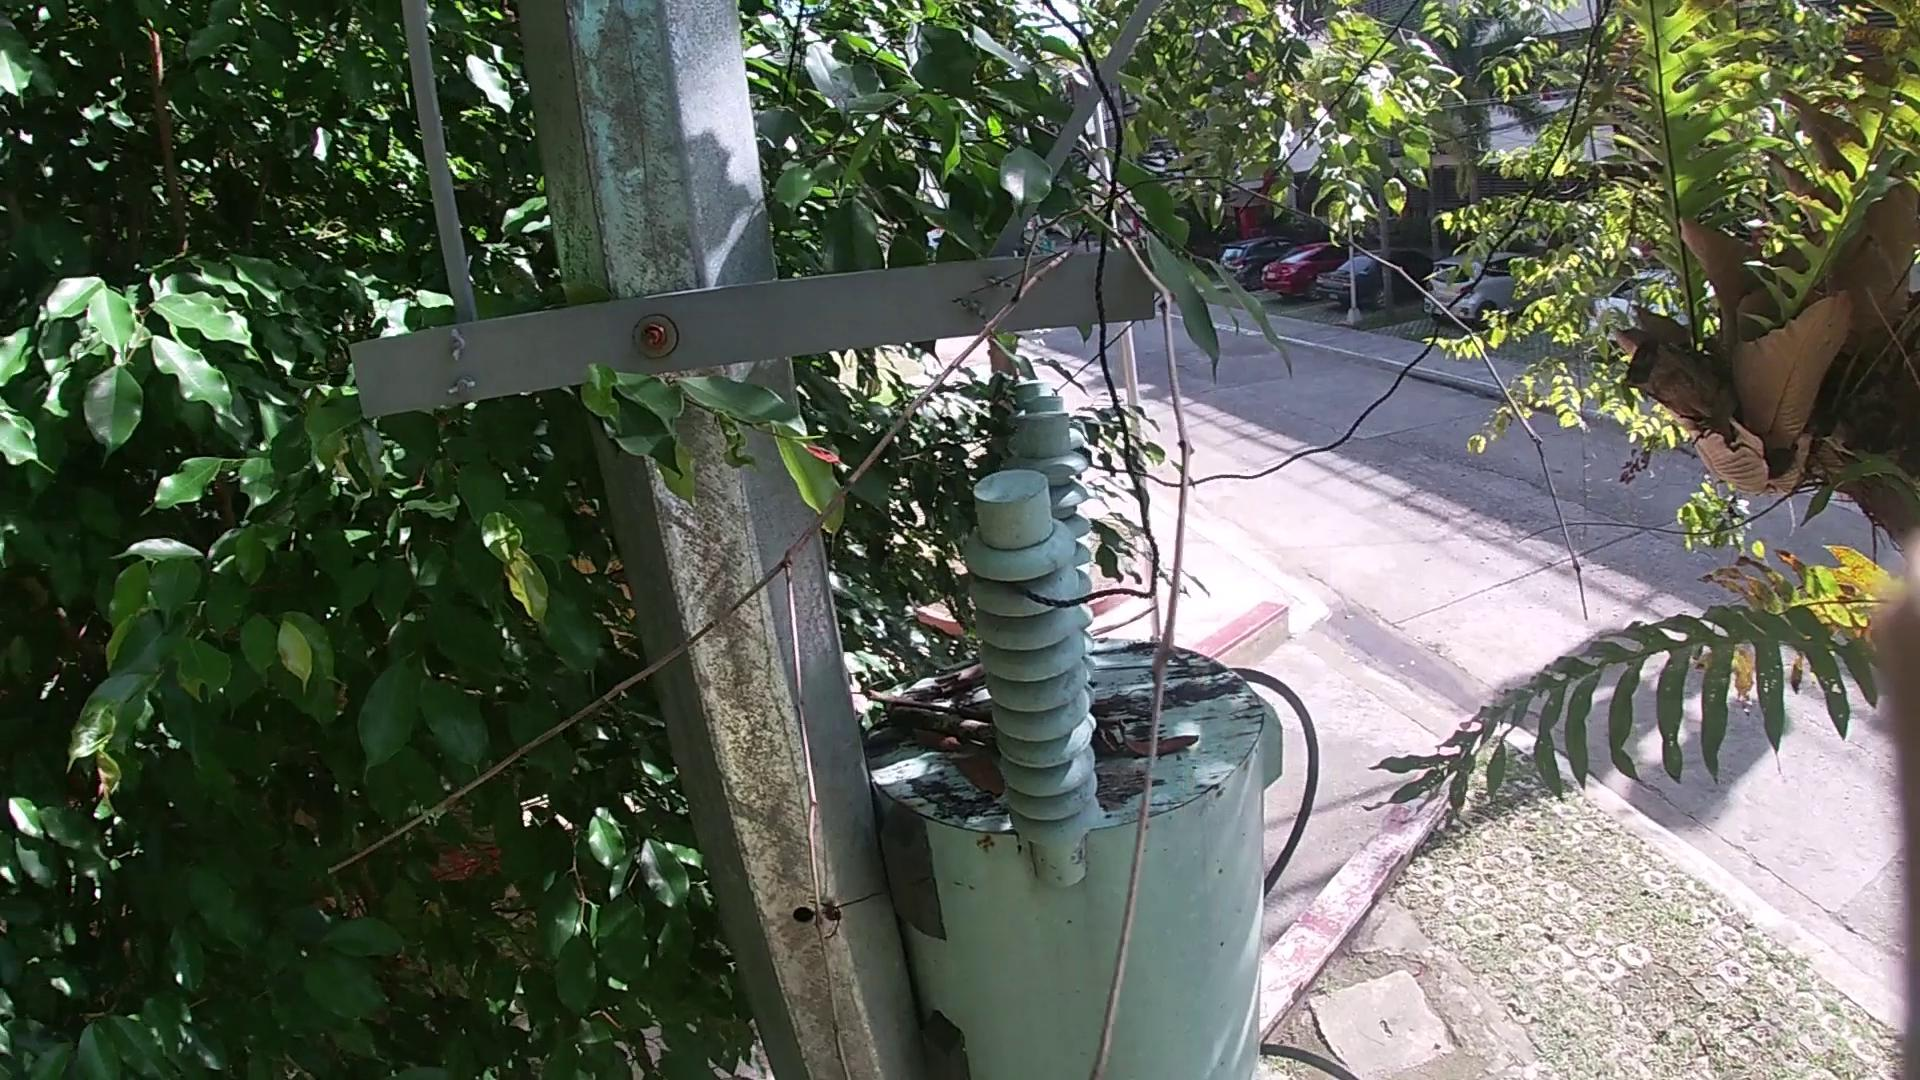leaf: (905, 738, 975, 758), (959, 764, 1005, 793), (1092, 720, 1121, 760)
mahogany fruit: (1110, 735, 1200, 760)
tree branch: (220, 185, 1230, 1067), (882, 704, 1021, 745), (858, 687, 986, 713), (911, 662, 978, 704)
